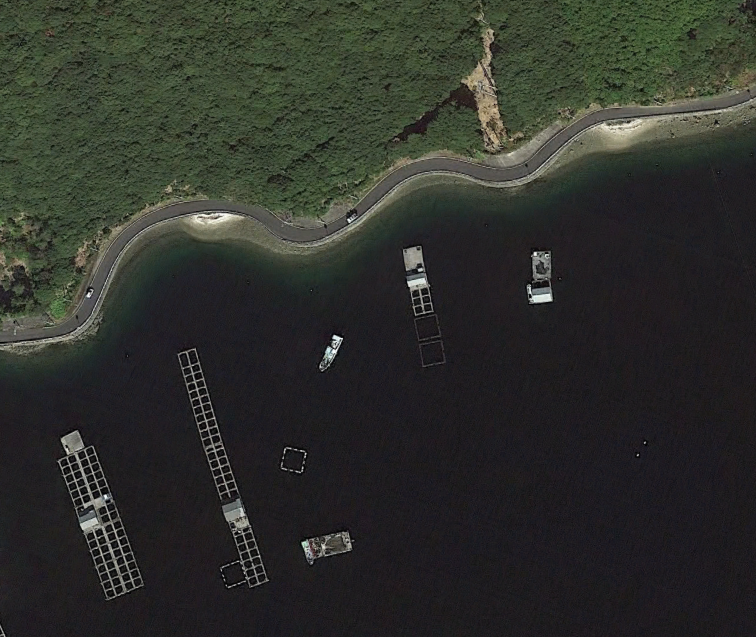platform: (293, 524, 359, 564), (526, 248, 555, 308), (401, 246, 431, 291), (53, 427, 88, 457), (218, 496, 252, 526), (74, 509, 103, 536)
ship: (318, 331, 347, 372)
square: (273, 440, 315, 477), (214, 555, 251, 592), (415, 336, 450, 372), (410, 311, 447, 343)
